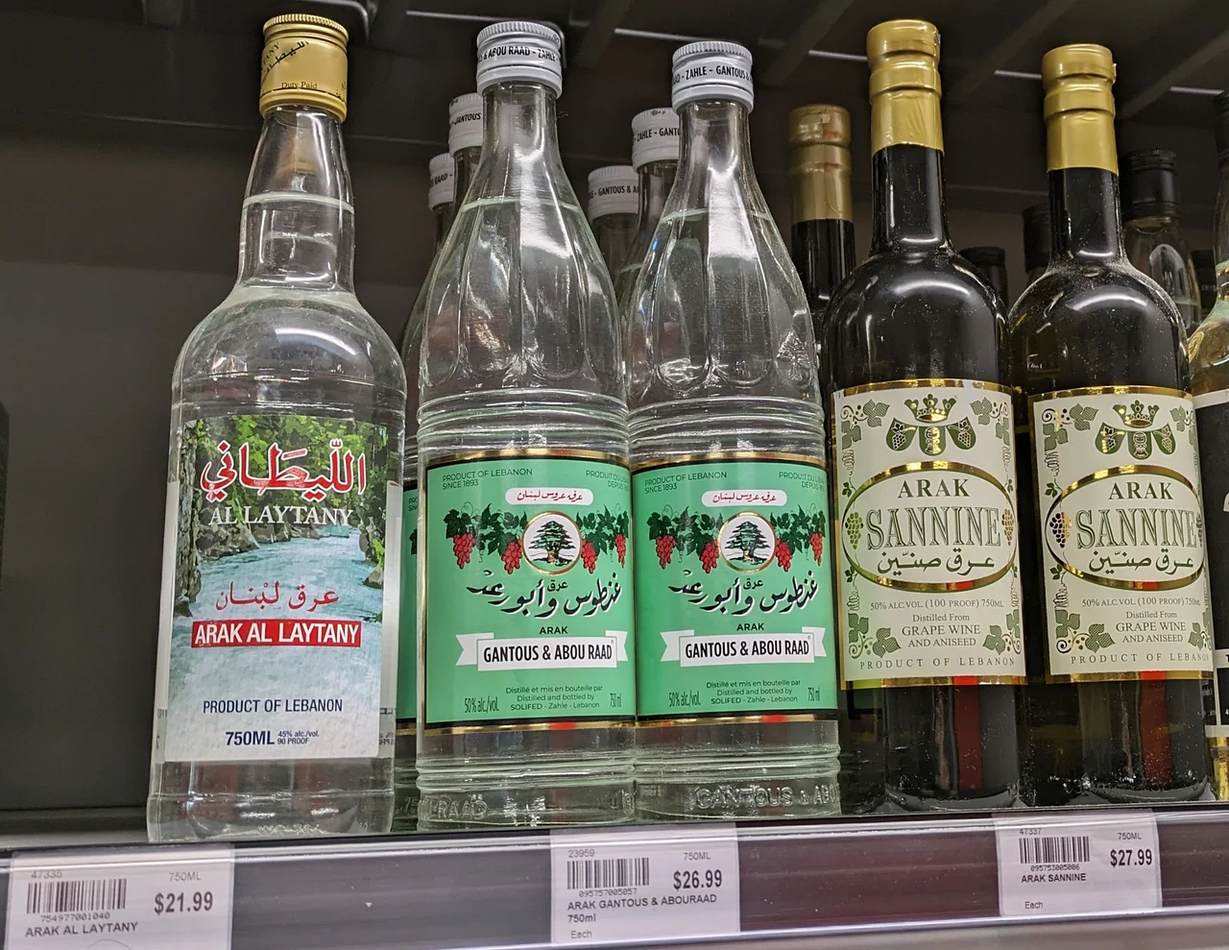unknown_bottle: (147, 12, 407, 844), (406, 17, 633, 829), (619, 36, 846, 821), (1006, 42, 1218, 806), (823, 18, 1026, 813), (1185, 86, 1229, 803)
